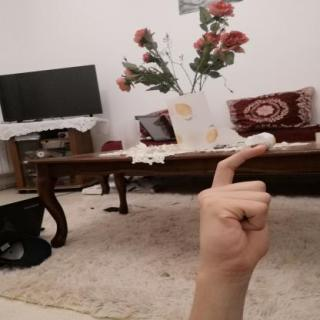RAA: (189, 139, 283, 281)
